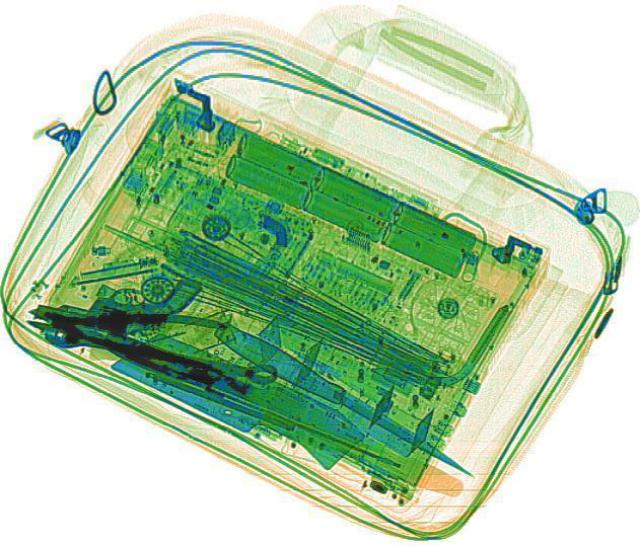Gun: (26, 250, 202, 346)
Knife: (200, 311, 496, 482)
Pliers: (16, 281, 232, 384)
Wrench: (37, 313, 279, 388)
